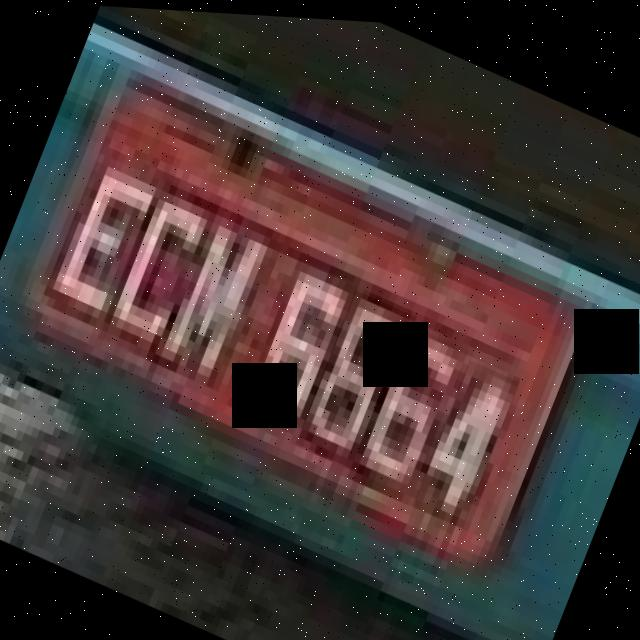4: (412, 352, 520, 526)
6: (352, 318, 469, 503), (246, 254, 354, 427)
8: (295, 283, 416, 469)
C: (103, 174, 220, 363)
E: (40, 139, 165, 339)
M: (164, 209, 278, 396)
